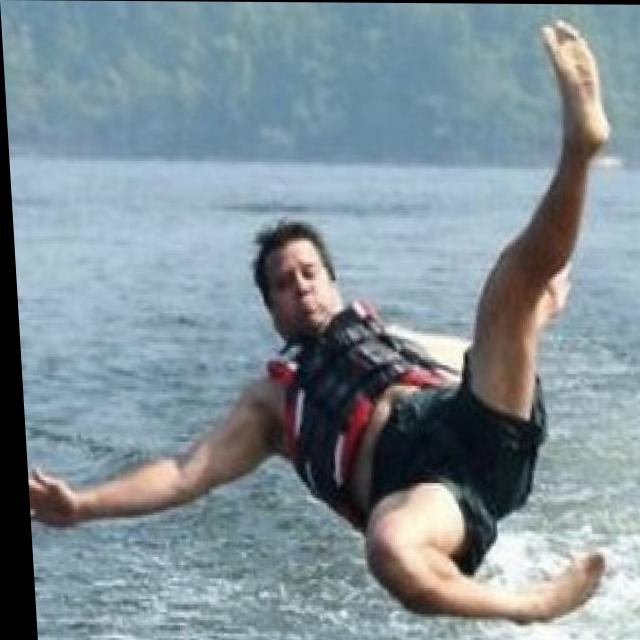fall: (3, 18, 632, 636)
